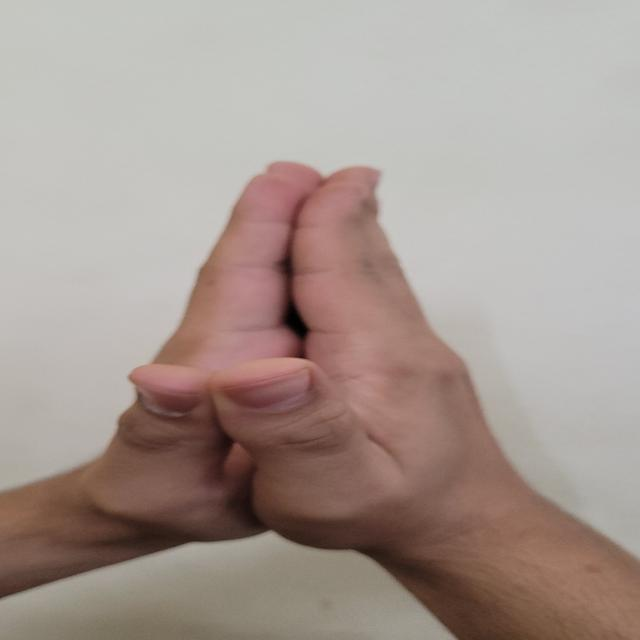Thank You: (48, 149, 611, 590)
